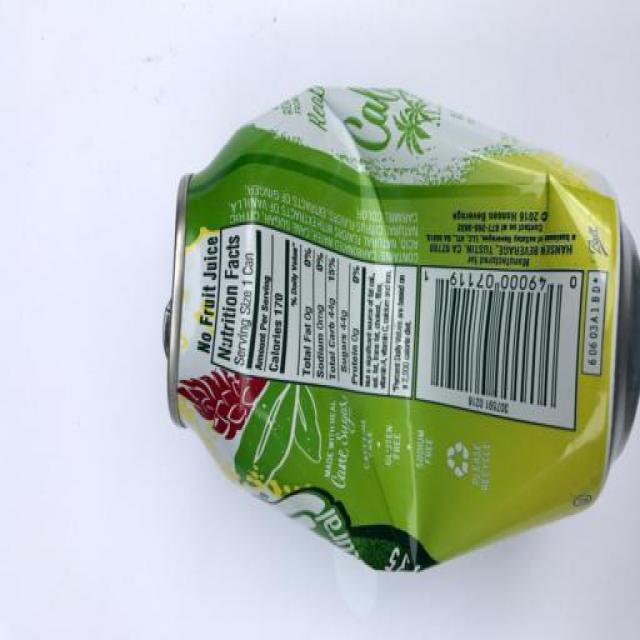metel: (171, 115, 640, 555)
